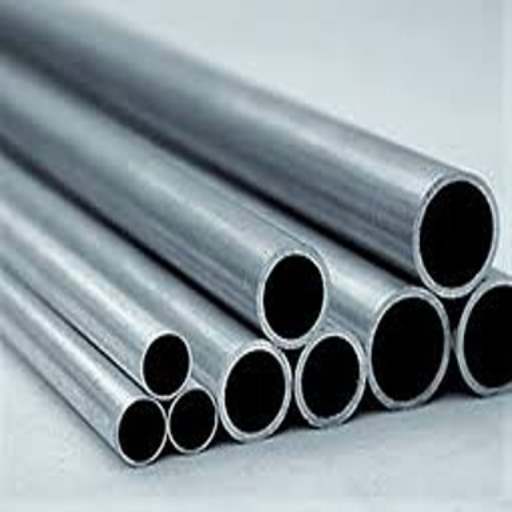Circle: (419, 177, 495, 292), (369, 295, 445, 404), (223, 345, 288, 438), (259, 253, 324, 342), (460, 281, 511, 390), (300, 332, 361, 422), (168, 389, 216, 452), (120, 400, 165, 463), (144, 335, 192, 392)
